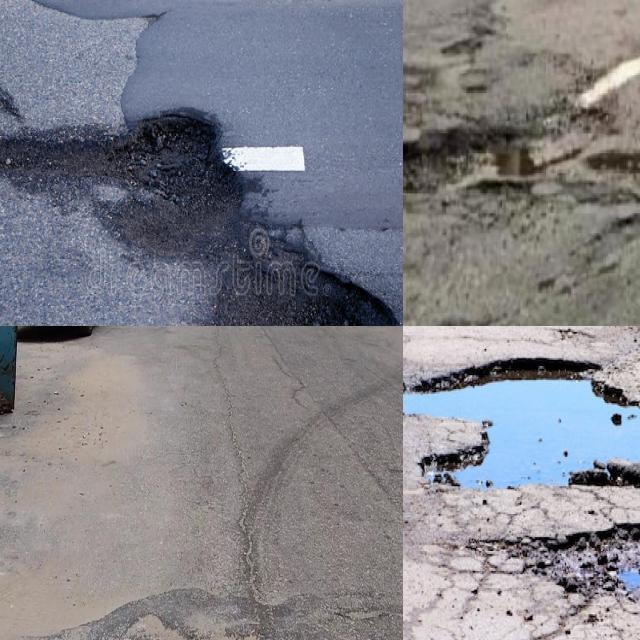Pothole: (0, 110, 403, 326), (403, 375, 640, 494), (403, 127, 580, 192)
